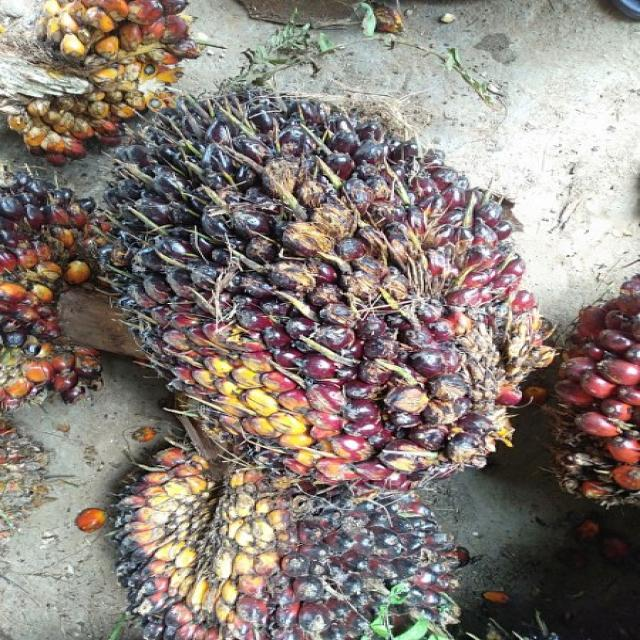fraksi 00: (106, 88, 559, 495)
